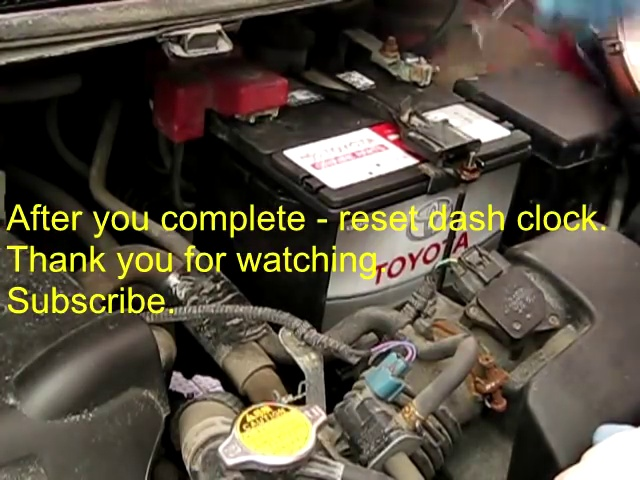battery: (169, 34, 527, 203)
neg_connected: (351, 19, 433, 100)
pos_connected: (149, 57, 292, 146)
